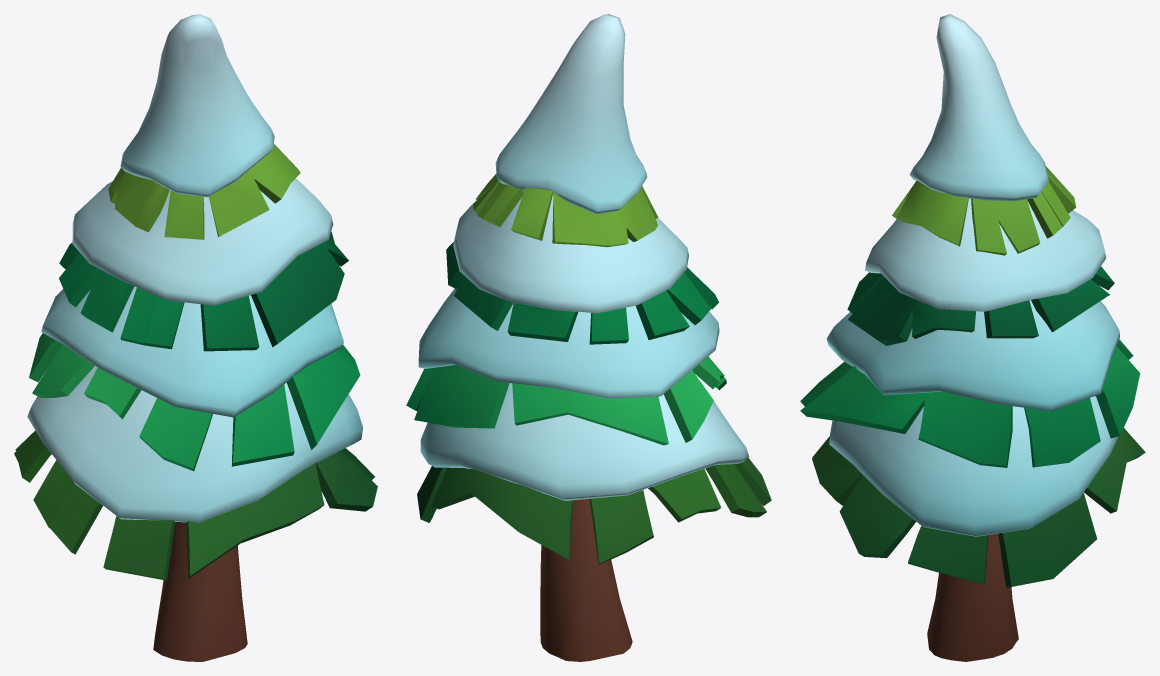
Rendered from ArbolNieve1_V4.fbx.
The picture shows the model from 3 angles, left to right: view 1: azimuth 30°, elevation 25°; view 2: azimuth 150°, elevation 25°; view 3: azimuth 270°, elevation 25°; orthographic projection. The views are drawn at different scales.
Visible parts, largest first — view 1: Snow, Arbol; view 2: Snow, Arbol; view 3: Snow, Arbol.
Boxes of the visible parts, x1=… form: Snow: x1=27, y1=14, x2=362, y2=522; Arbol: x1=14, y1=144, x2=377, y2=661; Snow: x1=418, y1=14, x2=748, y2=500; Arbol: x1=406, y1=174, x2=771, y2=661; Snow: x1=826, y1=14, x2=1119, y2=536; Arbol: x1=800, y1=166, x2=1145, y2=661.
Size of the model in its own units: 3.69 by 7.07 by 3.58.
